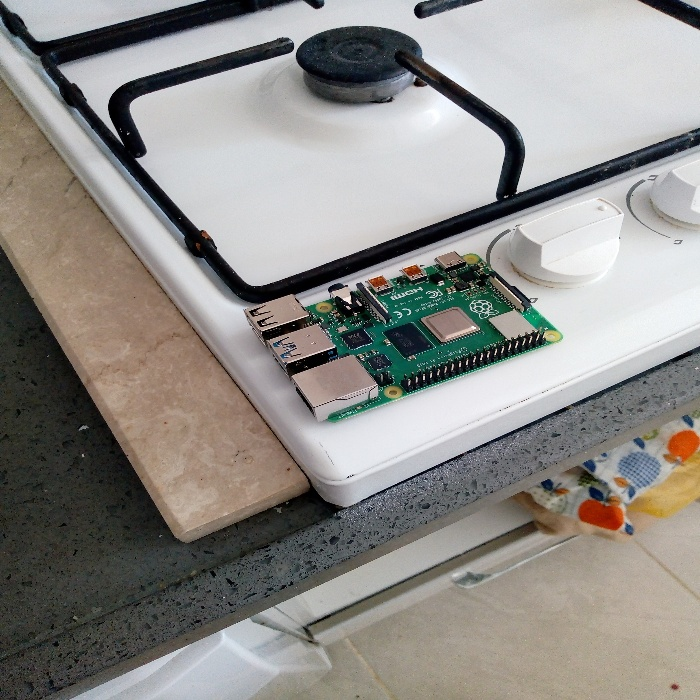raspberry: (230, 230, 579, 427)
